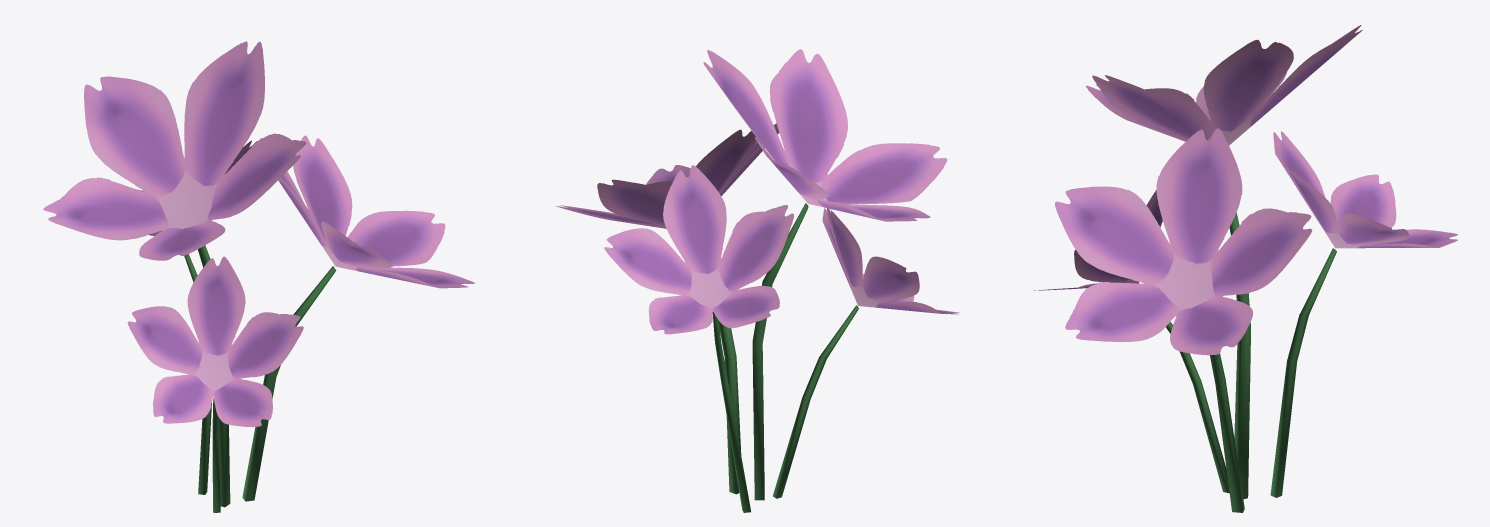
Rendered from flower_5_clump.gltf.
The picture shows the model from 3 angles, left to right: view 1: azimuth 30°, elevation 25°; view 2: azimuth 150°, elevation 25°; view 3: azimuth 270°, elevation 25°; orthographic projection. The views are drawn at different scales.
Visible parts, largest first — view 1: Flower_5_Clump; view 2: Flower_5_Clump; view 3: Flower_5_Clump.
Boxes of the visible parts, box(x1,y1,x2,y2) form: Flower_5_Clump: box(43, 41, 474, 512); Flower_5_Clump: box(556, 49, 959, 512); Flower_5_Clump: box(1033, 25, 1457, 512).
Size of the model in its own units: 0.426 by 0.4508 by 0.3735.
Materials: 1 (1 with a texture image).
